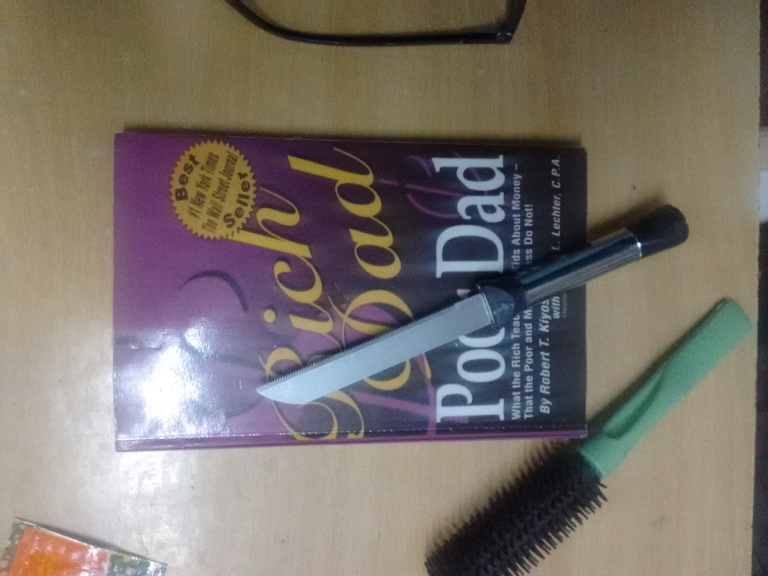knife: (251, 204, 693, 407)
